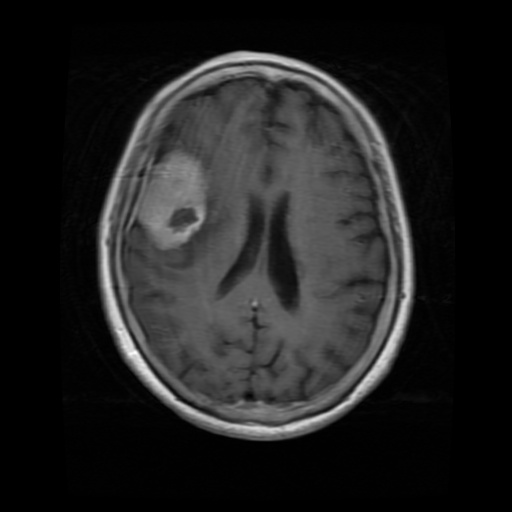meningioma: (136, 150, 207, 249)
